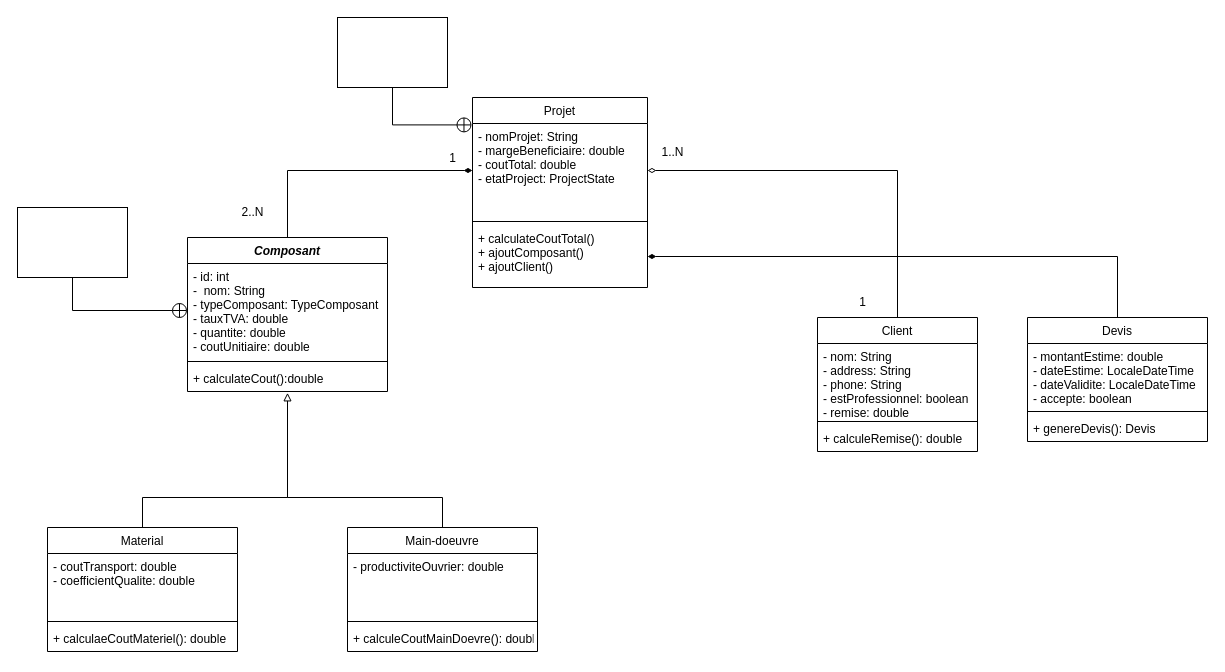
Some shapes in this 1225 by 672 pixel diagram are drawn without their labels. The shapes that lost their labels are listed below. From the top down, each one's centre as x and y in pixels, then its label:
At (x=392, y=52): "«Status Project » IN PROGRESS COMPLETED CANCELED".
At (x=72, y=242): "« TypeComposant » MAINDOEVRE MATERIEL".
